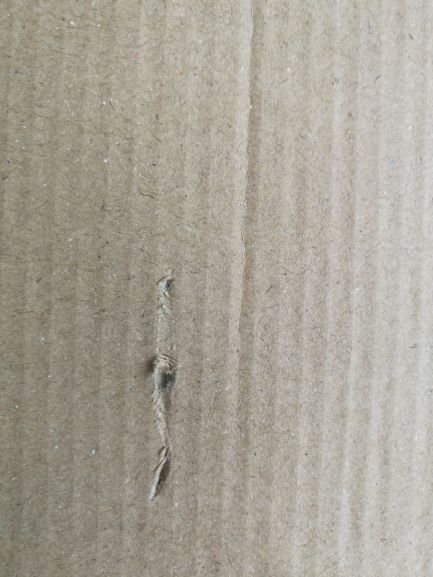defect: (229, 2, 272, 438), (131, 254, 197, 509)
